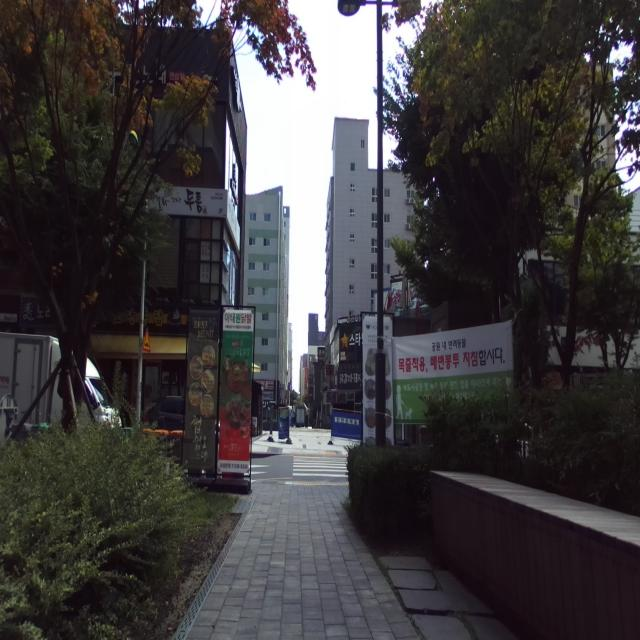횡단보도: (293, 456, 349, 478)
